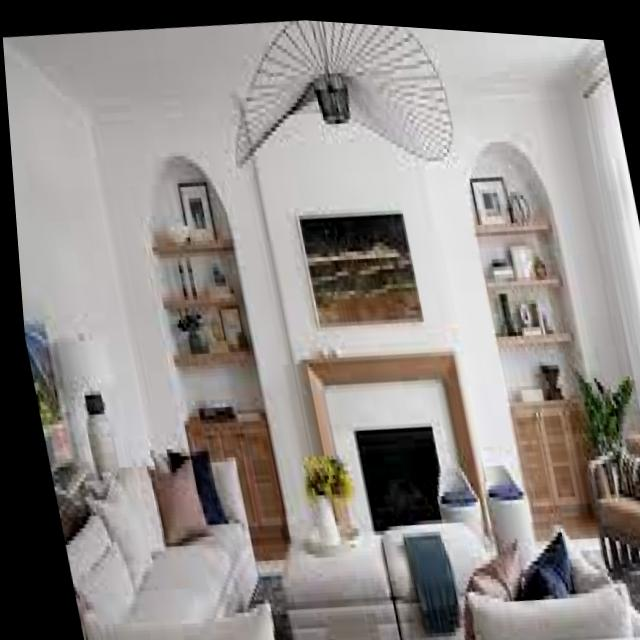noobs: (600, 566, 640, 606)
obs: (58, 450, 251, 640), (270, 512, 502, 640), (408, 520, 640, 640), (584, 427, 640, 582), (477, 457, 527, 571)
